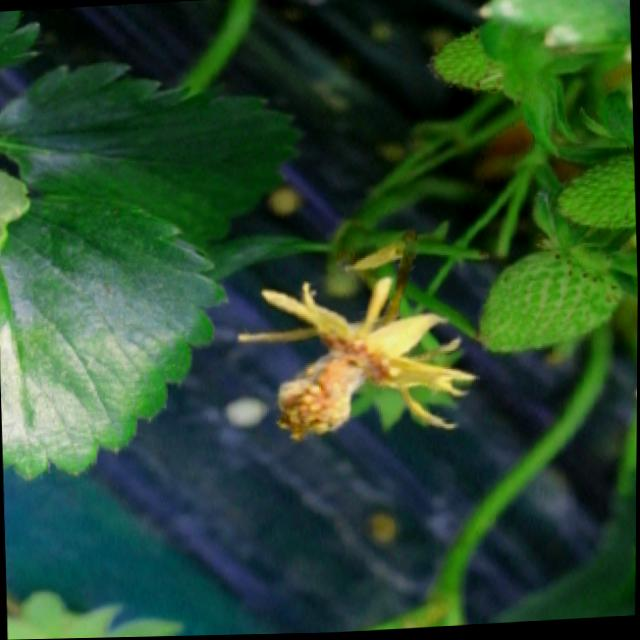Gray Mold: (235, 276, 478, 443)
